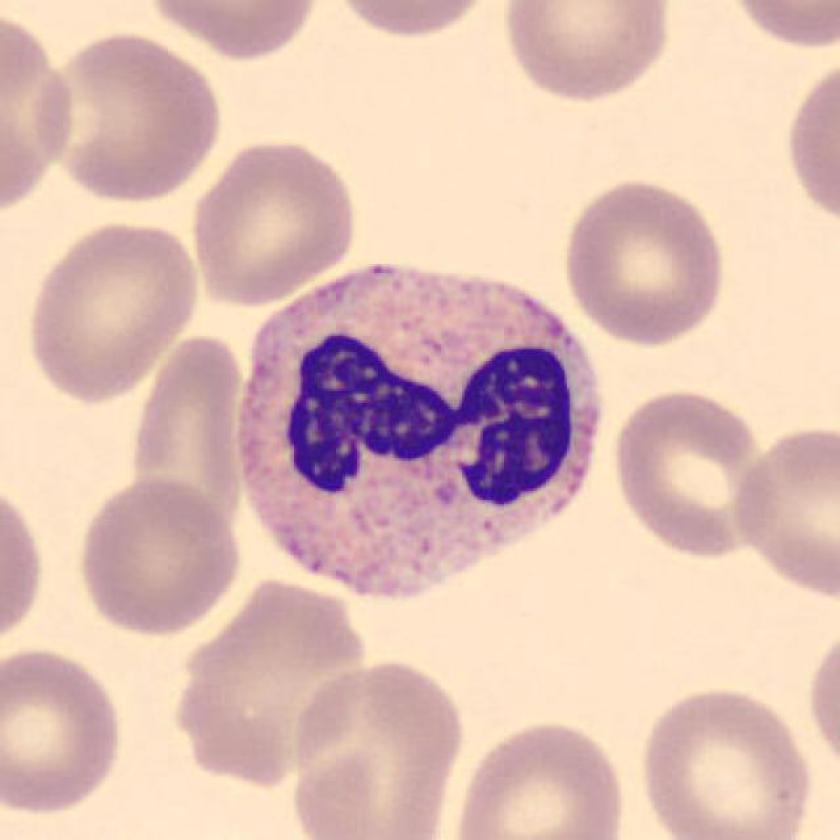neutrophil: (240, 266, 602, 601)
